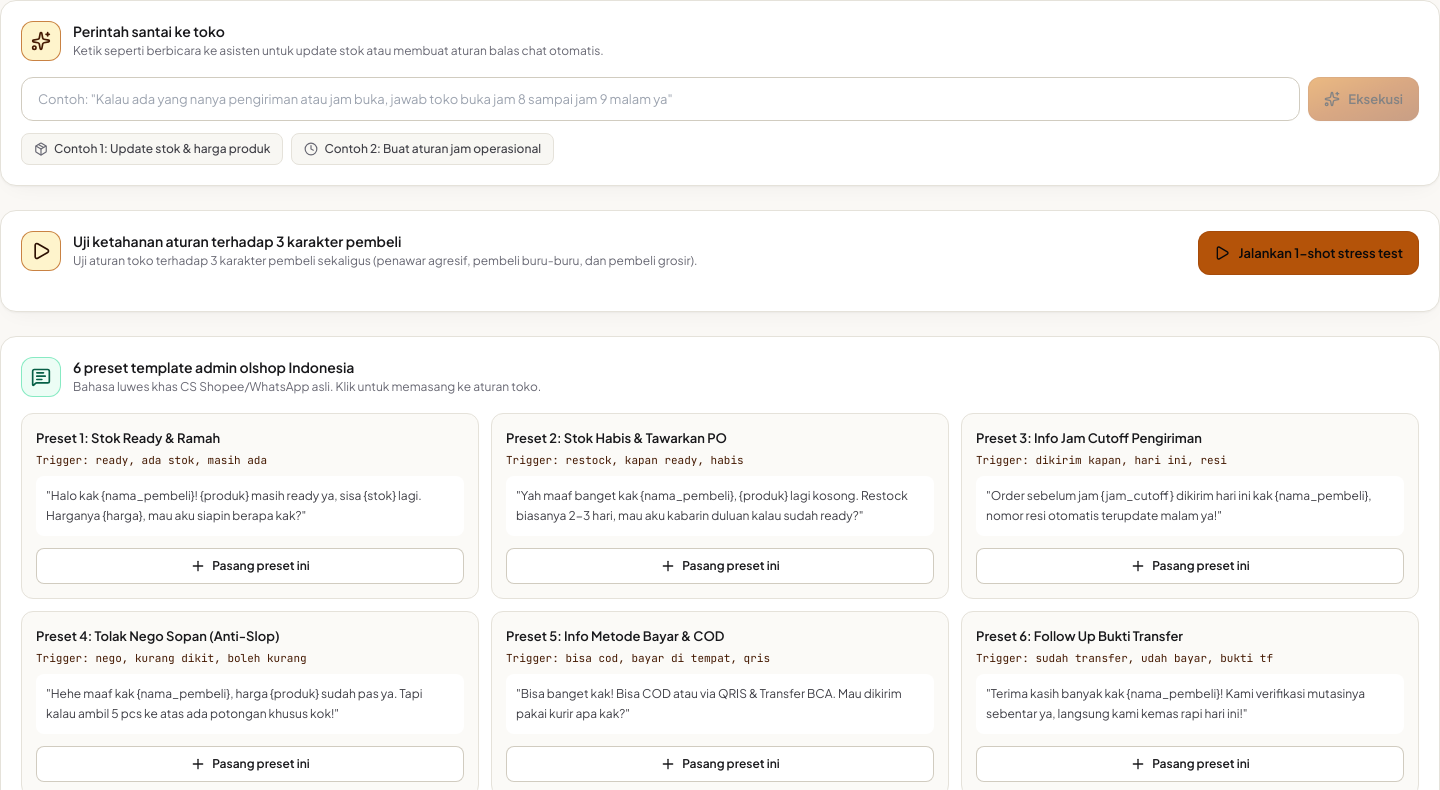
Scenario: StoreStudio › sandbox gagal: pesan error inline + toast (bukan alert() yang memblokir)
The width and height of the screenshot is (1440, 790).
Click the button "Jalankan 1-shot stress test": (1309, 253) [1198,231,1419,275]
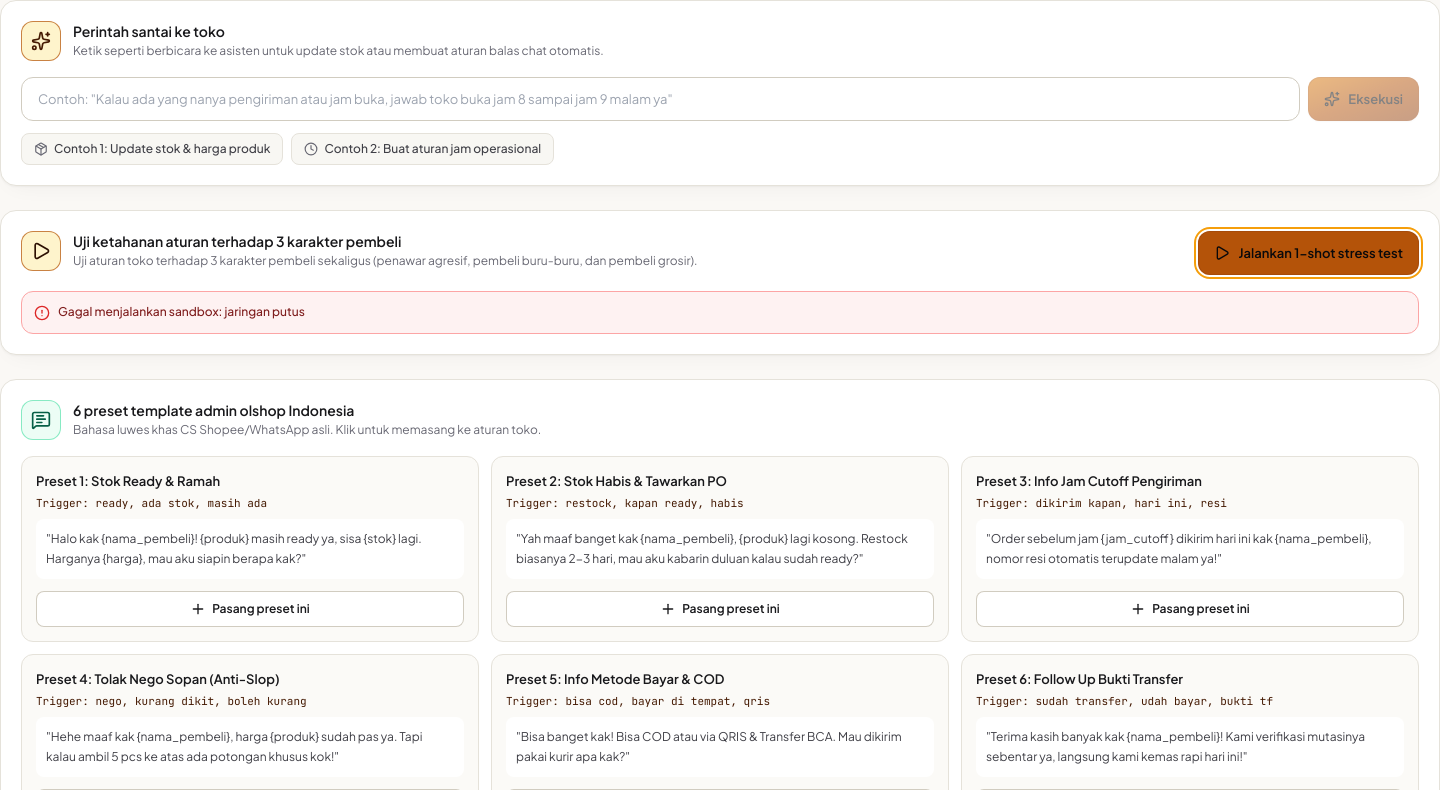
Now the message reads "Gagal menjalankan sandbox: jaringan putus", box [58,304,305,319]
